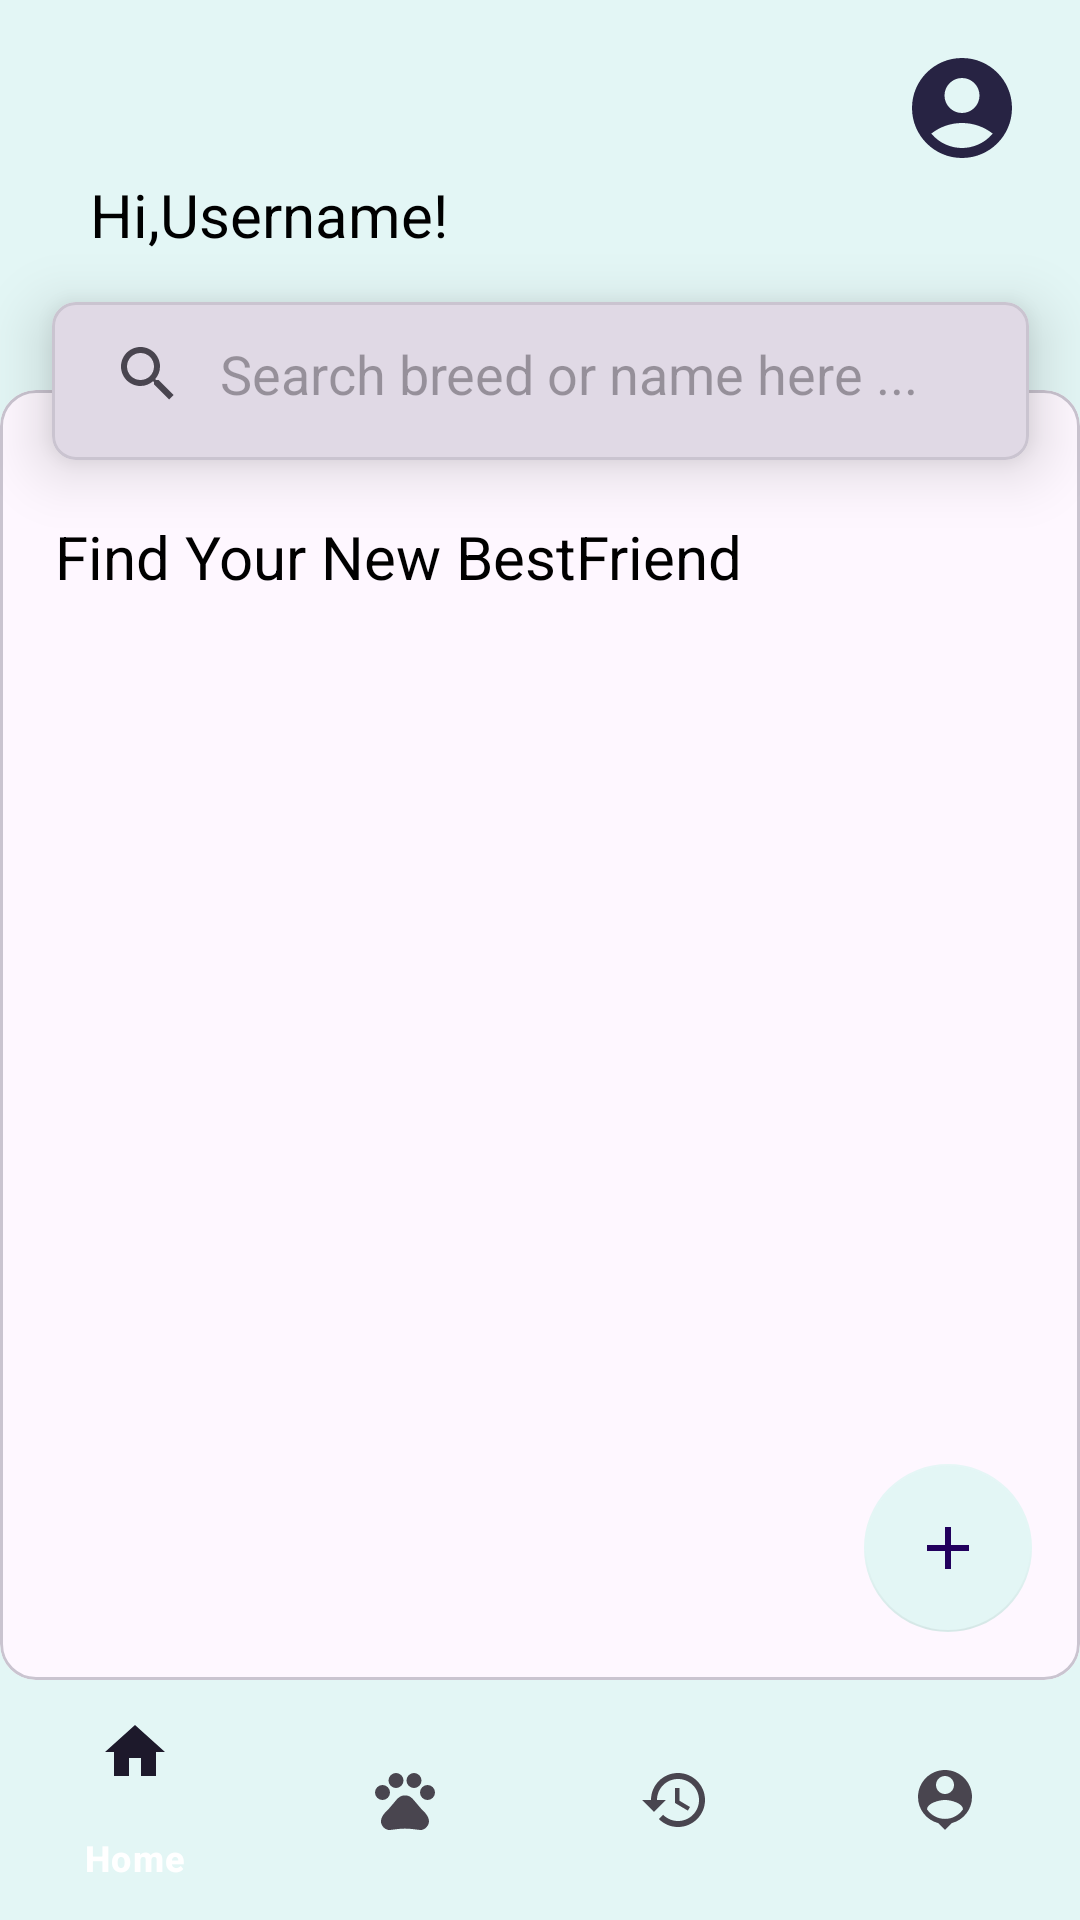

Locate icon controls on the screen. Image size 1080px×1920px, boxes as [left=x1, top=y1, right=x2, bottom=y2].
account: [left=912, top=58, right=1012, bottom=158]
add: [left=864, top=1466, right=1032, bottom=1632]
